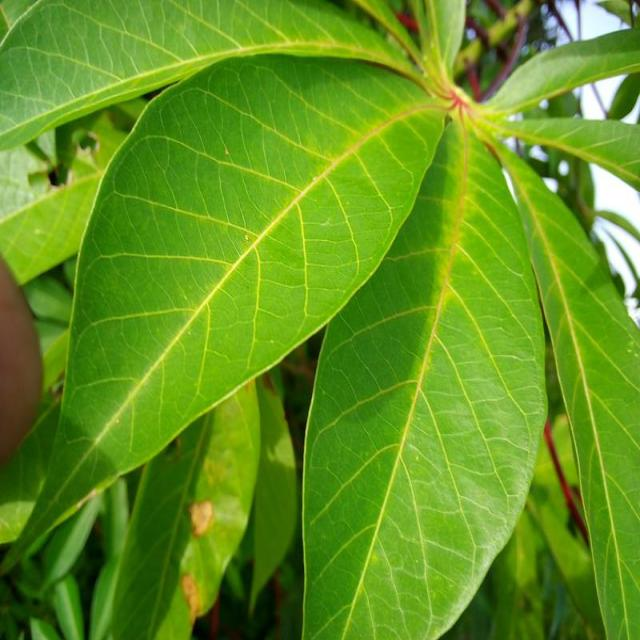cassava leaf: (4, 42, 448, 572), (300, 109, 548, 638)
